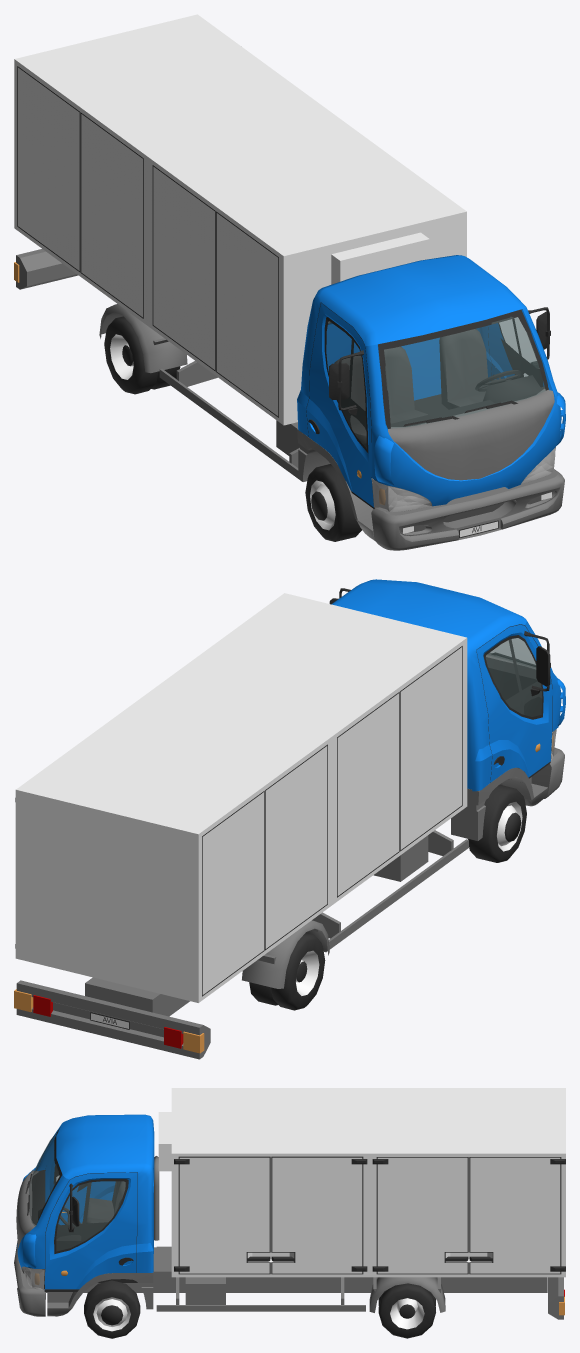
The model's file is truck1.fbx.
3 renders of one model, top to bottom at view 1: azimuth 30°, elevation 25°; view 2: azimuth 150°, elevation 25°; view 3: azimuth 270°, elevation 25°, orthographic. The views are drawn at different scales.
Parts seen in each view (by area): view 1: Polygon_6, Polygon_3, Polygon_9, Polygon_8, Polygon, Polygon_10, Polygon_5, Polygon_2, Polygon_7; view 2: Polygon_6, Polygon_9, Polygon_3, Polygon, Polygon_8, Polygon_2, Polygon_5, Polygon_11, Polygon_4; view 3: Polygon_6, Polygon_3, Polygon_9, Polygon, Polygon_2, Polygon_8, Polygon_5, Polygon_10, Polygon_7.
Part boxes in pixels (<box>): Polygon_6: <box>14,14,466,425</box>; Polygon_3: <box>297,255,565,507</box>; Polygon_9: <box>16,249,564,550</box>; Polygon_8: <box>326,317,545,448</box>; Polygon: <box>104,302,550,541</box>; Polygon_10: <box>334,329,487,443</box>; Polygon_5: <box>110,334,554,533</box>; Polygon_2: <box>17,66,278,417</box>; Polygon_7: <box>372,447,555,512</box>; Polygon_6: <box>15,593,467,1002</box>; Polygon_9: <box>16,653,564,1059</box>; Polygon_3: <box>331,579,565,791</box>; Polygon: <box>249,588,552,1010</box>; Polygon_8: <box>486,638,541,716</box>; Polygon_2: <box>15,646,462,996</box>; Polygon_5: <box>296,730,554,995</box>; Polygon_11: <box>14,735,553,1053</box>; Polygon_4: <box>33,995,183,1048</box>; Polygon_6: <box>158,1088,565,1277</box>; Polygon_3: <box>17,1114,154,1289</box>; Polygon_9: <box>14,1156,563,1319</box>; Polygon: <box>25,1128,435,1338</box>; Polygon_2: <box>174,1156,565,1274</box>; Polygon_8: <box>29,1132,125,1251</box>; Polygon_5: <box>24,1268,424,1331</box>; Polygon_10: <box>86,1181,125,1223</box>; Polygon_7: <box>23,1267,44,1289</box>.
Bounding box in the file's own units: 279 × 307 × 825.
